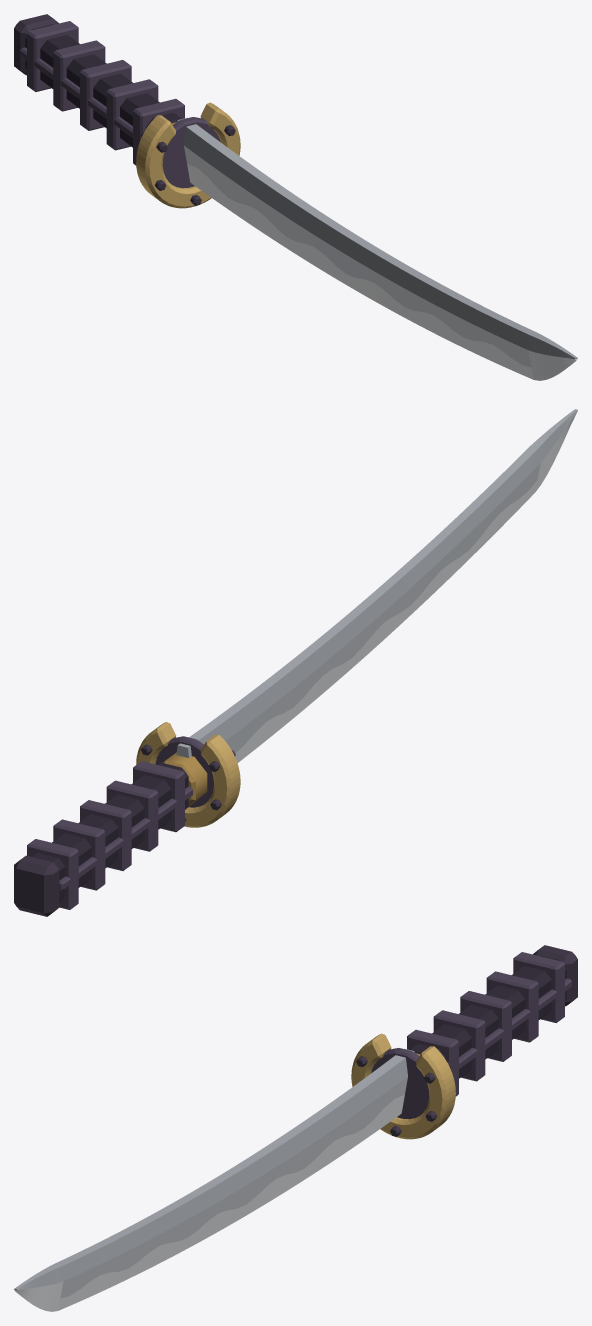
File: w_katana@katana_star.glb
3 renders of one model, top to bottom at view 1: azimuth 30°, elevation 25°; view 2: azimuth 150°, elevation 25°; view 3: azimuth 330°, elevation 25°, orthographic.
Parts seen in each view (by area): view 1: kat_blade_wzB__spine__pa9aeb5, kat_trims_wzN__stripe__p51465c, kat_blade_wzB__edge__peef0f2, kat_blade_wzB__steel__pcfd3d8, kat_guard_wzN__brass2__pc4a463, kat_tsuka_wzA__wrap__p2e2836, kat_guard_wzN__metal2__p51465c, kat_tsuka_wzN__metal__p3e3546; view 2: kat_blade_wzB__spine__pa9aeb5, kat_trims_wzN__stripe__p51465c, kat_blade_wzB__edge__peef0f2, kat_blade_wzB__steel__pcfd3d8, kat_tsuka_wzA__wrap__p2e2836, kat_guard_wzN__brass2__pc4a463, kat_tsuka_wzN__metal__p3e3546, kat_guard_wzN__metal2__p51465c, kat_guard_wzN__brass__pa8874a; view 3: kat_blade_wzB__spine__pa9aeb5, kat_trims_wzN__stripe__p51465c, kat_blade_wzB__edge__peef0f2, kat_blade_wzB__steel__pcfd3d8, kat_guard_wzN__brass2__pc4a463, kat_tsuka_wzA__wrap__p2e2836, kat_guard_wzN__metal2__p51465c, kat_tsuka_wzN__metal__p3e3546.
Part boxes in pixels (bbox=[...]): kat_blade_wzB__spine__pa9aeb5: bbox=[177, 117, 577, 359]; kat_trims_wzN__stripe__p51465c: bbox=[20, 21, 184, 165]; kat_blade_wzB__edge__peef0f2: bbox=[187, 163, 577, 380]; kat_blade_wzB__steel__pcfd3d8: bbox=[184, 146, 531, 367]; kat_guard_wzN__brass2__pc4a463: bbox=[136, 102, 240, 208]; kat_tsuka_wzA__wrap__p2e2836: bbox=[25, 24, 181, 147]; kat_guard_wzN__metal2__p51465c: bbox=[162, 117, 220, 188]; kat_tsuka_wzN__metal__p3e3546: bbox=[14, 14, 58, 75]; kat_blade_wzB__spine__pa9aeb5: bbox=[176, 409, 577, 757]; kat_trims_wzN__stripe__p51465c: bbox=[27, 761, 192, 909]; kat_blade_wzB__edge__peef0f2: bbox=[235, 411, 577, 762]; kat_blade_wzB__steel__pcfd3d8: bbox=[225, 463, 540, 753]; kat_tsuka_wzA__wrap__p2e2836: bbox=[32, 762, 188, 901]; kat_guard_wzN__brass2__pc4a463: bbox=[136, 722, 240, 827]; kat_tsuka_wzN__metal__p3e3546: bbox=[14, 855, 59, 916]; kat_guard_wzN__metal2__p51465c: bbox=[155, 736, 213, 807]; kat_guard_wzN__brass__pa8874a: bbox=[163, 752, 207, 805]; kat_blade_wzB__spine__pa9aeb5: bbox=[14, 1048, 414, 1290]; kat_trims_wzN__stripe__p51465c: bbox=[407, 952, 571, 1096]; kat_blade_wzB__edge__peef0f2: bbox=[14, 1094, 404, 1311]; kat_blade_wzB__steel__pcfd3d8: bbox=[60, 1077, 407, 1298]; kat_guard_wzN__brass2__pc4a463: bbox=[351, 1033, 455, 1139]; kat_tsuka_wzA__wrap__p2e2836: bbox=[410, 955, 566, 1078]; kat_guard_wzN__metal2__p51465c: bbox=[371, 1048, 429, 1119]; kat_tsuka_wzN__metal__p3e3546: bbox=[533, 945, 577, 1006].
Bounding box in the file's own units: 0.0976 × 0.1267 × 0.9667.
